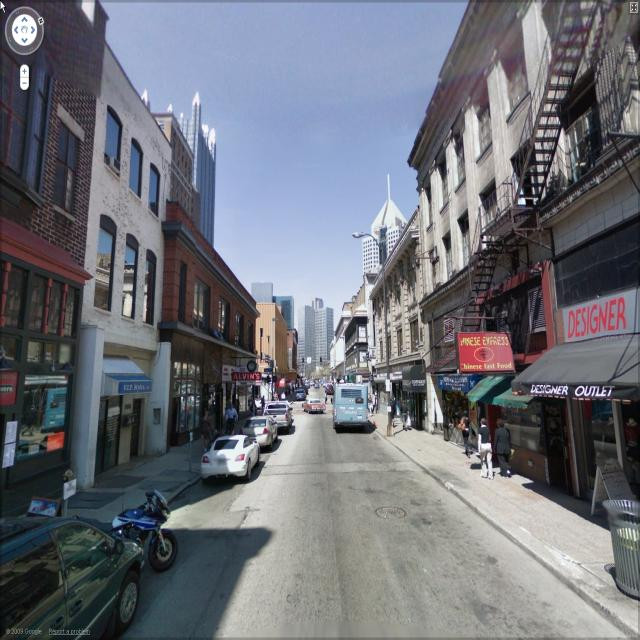b_1: (433, 5, 637, 486), (1, 25, 88, 454), (82, 58, 162, 467), (163, 227, 255, 439), (371, 218, 430, 427), (358, 198, 417, 296), (190, 100, 218, 242), (298, 292, 340, 377), (342, 283, 372, 402), (254, 308, 294, 396), (168, 115, 198, 214), (325, 318, 351, 392), (272, 292, 298, 333), (248, 278, 278, 308)
